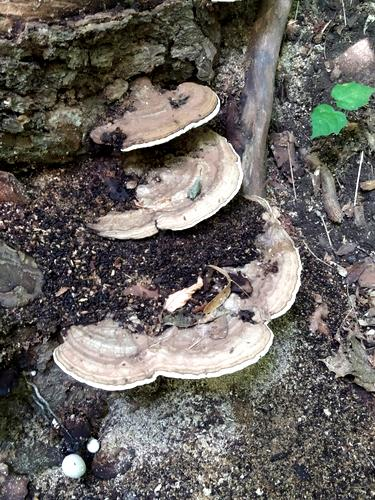Ganoderma - Fruit Body: (50, 239, 301, 391), (85, 149, 240, 238), (96, 80, 218, 143)
